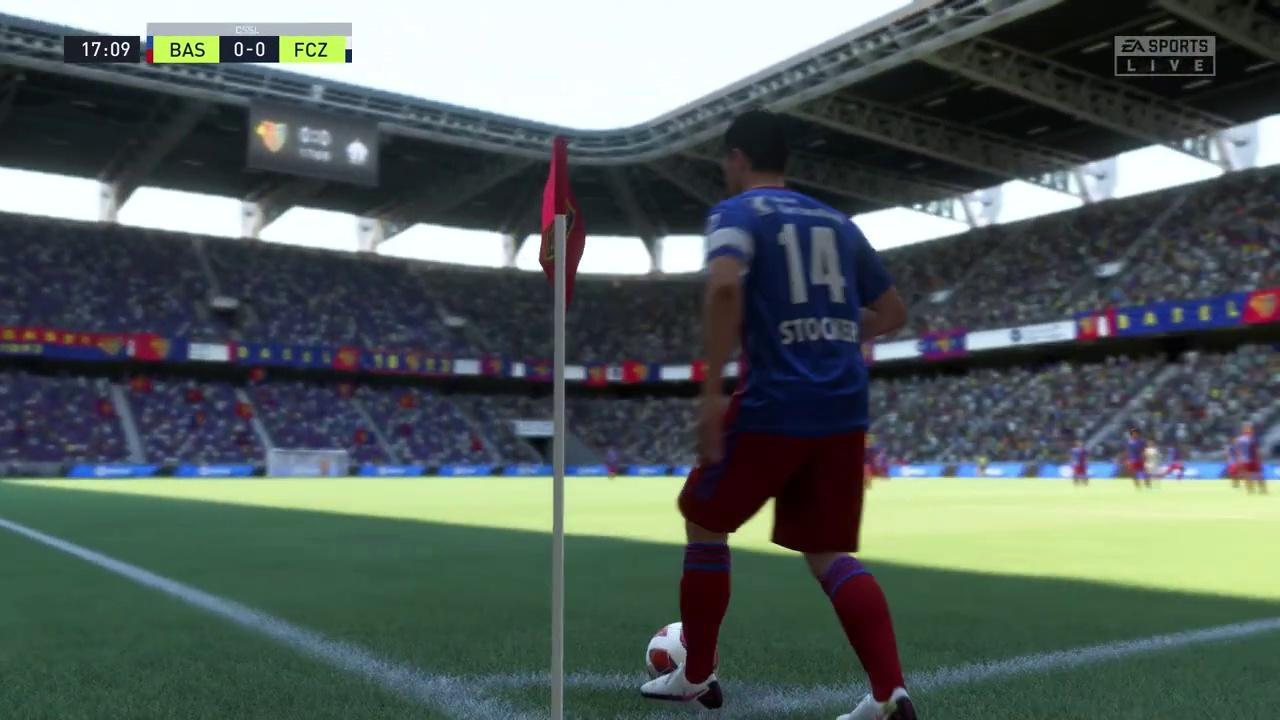scoreboard: (151, 37, 354, 66)
timestamp: (64, 36, 139, 61)
